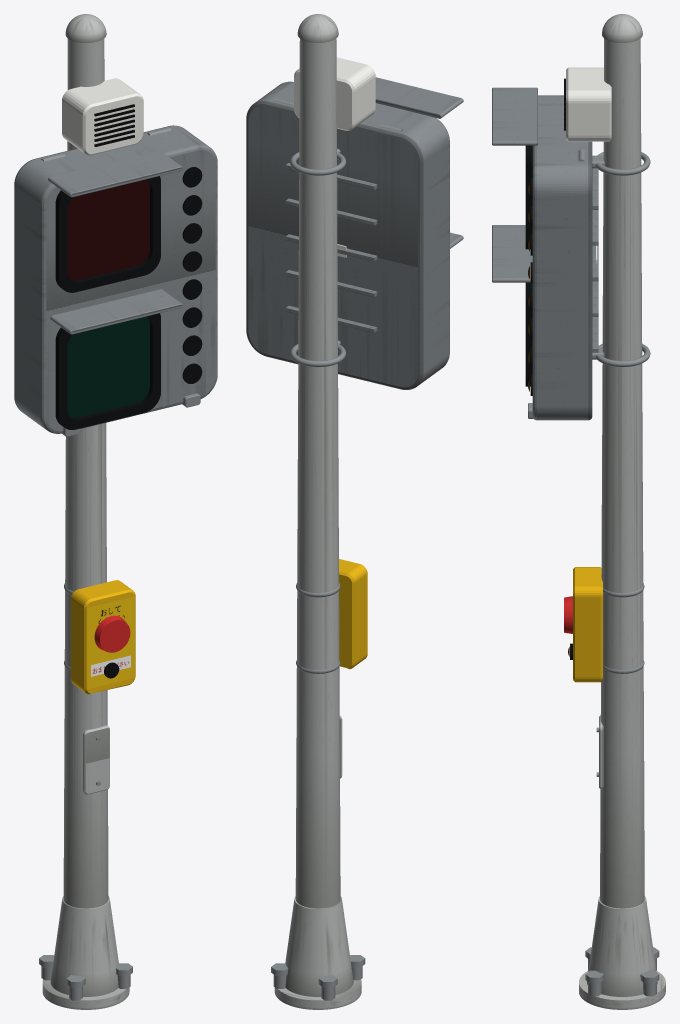
3 renders of one model, left to right at view 1: azimuth 30°, elevation 25°; view 2: azimuth 150°, elevation 25°; view 3: azimuth 270°, elevation 25°, orthographic.
Visible parts, largest first — view 1: jp-ped-count, lamp_walk, lamp_red, opt_button_on, opt_sound_on; view 2: jp-ped-count, opt_button_on, opt_sound_on; view 3: jp-ped-count, opt_button_on, opt_sound_on.
Boxes of the visible parts, box(x1,y1,x2,y2) form: jp-ped-count: box(14, 14, 217, 1009); lamp_walk: box(67, 316, 149, 417); lamp_red: box(67, 179, 149, 280); opt_button_on: box(64, 580, 135, 694); opt_sound_on: box(62, 78, 143, 155); jp-ped-count: box(246, 14, 463, 1009); opt_button_on: box(296, 559, 367, 673); opt_sound_on: box(294, 57, 375, 130); jp-ped-count: box(492, 14, 665, 1009); opt_button_on: box(564, 567, 644, 682); opt_sound_on: box(564, 67, 611, 141).
Bounding box in the file's own units: 0.58 × 3.06 × 0.4935.
Materials: 20 (3 with a texture image).
